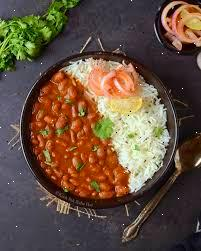rajma: (40, 86, 101, 187)
rice: (114, 108, 169, 181)
salad: (87, 61, 143, 98), (162, 6, 201, 59)
